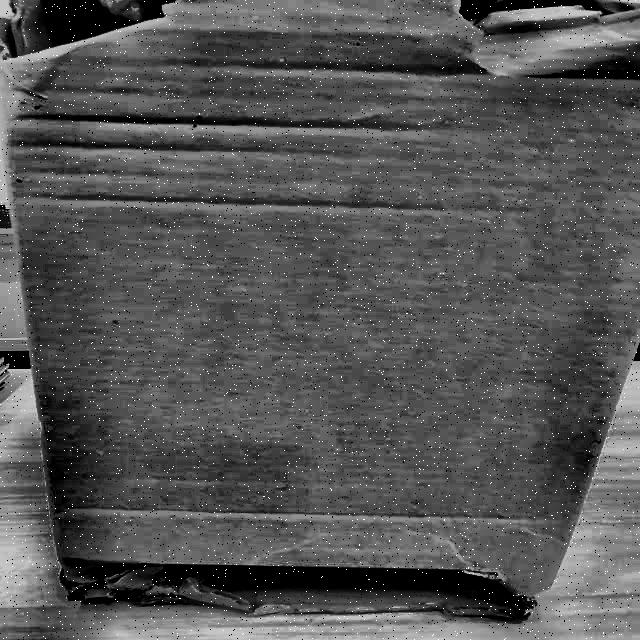box: (0, 0, 639, 627)
hole: (60, 554, 548, 618), (9, 1, 187, 59), (455, 0, 623, 31)
